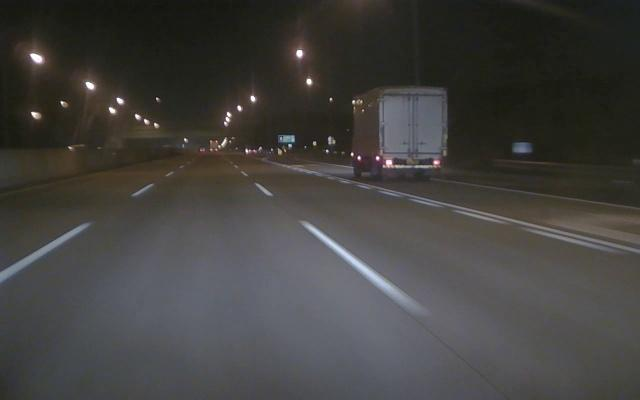lane: (255, 185, 434, 321), (338, 180, 637, 254), (3, 185, 150, 282)
